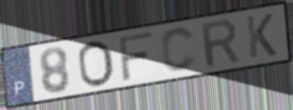8: (38, 45, 72, 95)
C: (159, 26, 199, 74)
F: (116, 30, 156, 84)
K: (244, 12, 279, 60)
O: (76, 39, 117, 90)
R: (198, 17, 242, 70)
